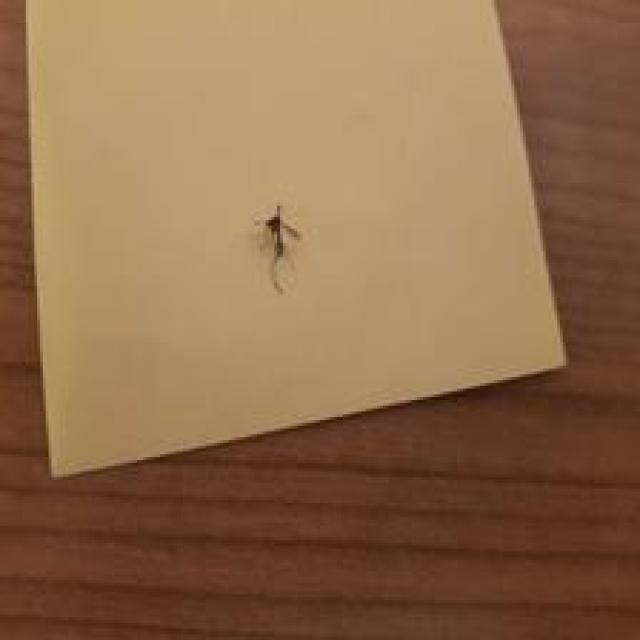Aedes albopictus: (253, 203, 301, 294)
